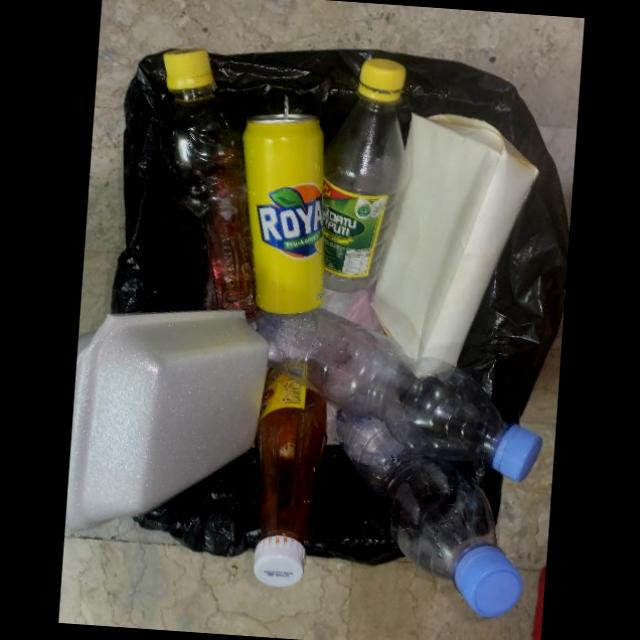carton: (371, 110, 540, 366)
chai_nhua_pet: (251, 305, 543, 484), (334, 411, 522, 618), (157, 49, 258, 326), (320, 54, 411, 291)
chai_thuy_tinh: (253, 369, 327, 588)
nhom: (242, 92, 324, 315)
xop: (65, 311, 269, 530)
